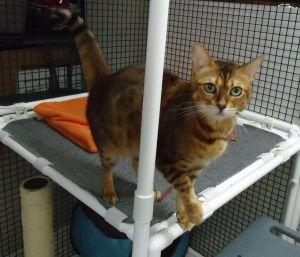bengal: (186, 41, 266, 128)
